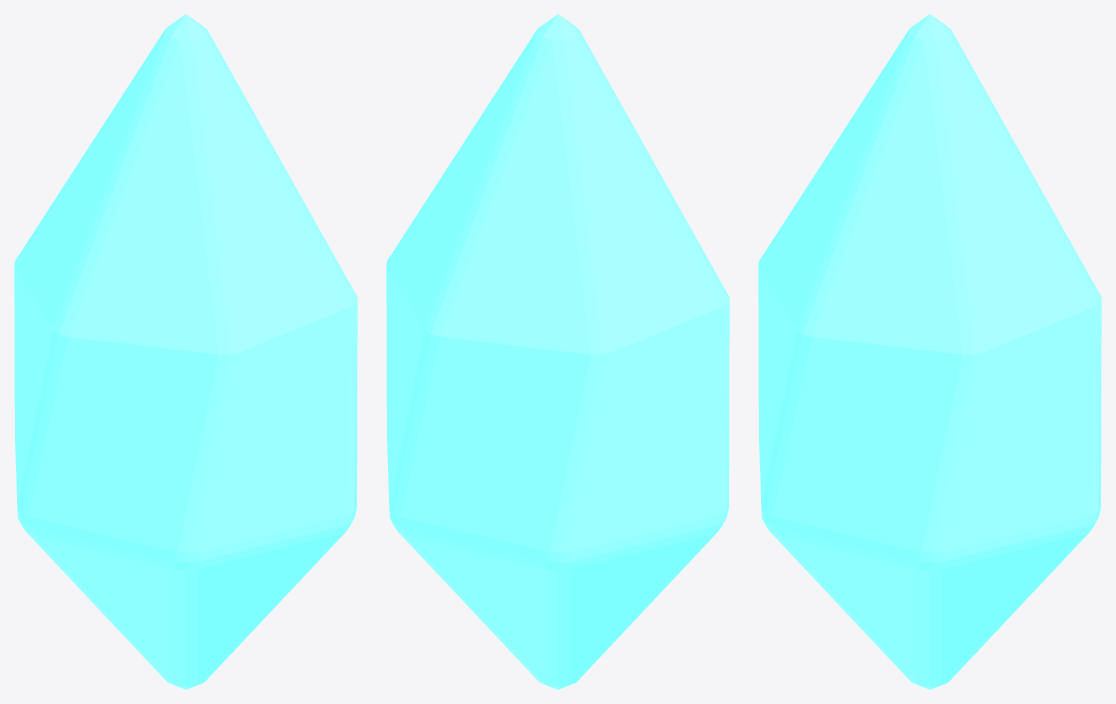
Rendered from SH10_Pickup_SoulGem_T1.fbx.
3 views of the same model, side by side, from view 1: azimuth 30°, elevation 25°; view 2: azimuth 150°, elevation 25°; view 3: azimuth 270°, elevation 25° (orthographic).
Visible parts, largest first — view 1: Shard; view 2: Shard; view 3: Shard.
Boxes of the visible parts, bbox=[...] form: Shard: bbox=[14, 14, 357, 689]; Shard: bbox=[386, 14, 729, 689]; Shard: bbox=[758, 14, 1101, 689].
Bounding box in the file's own units: 0.3121 × 0.6049 × 0.2784.
